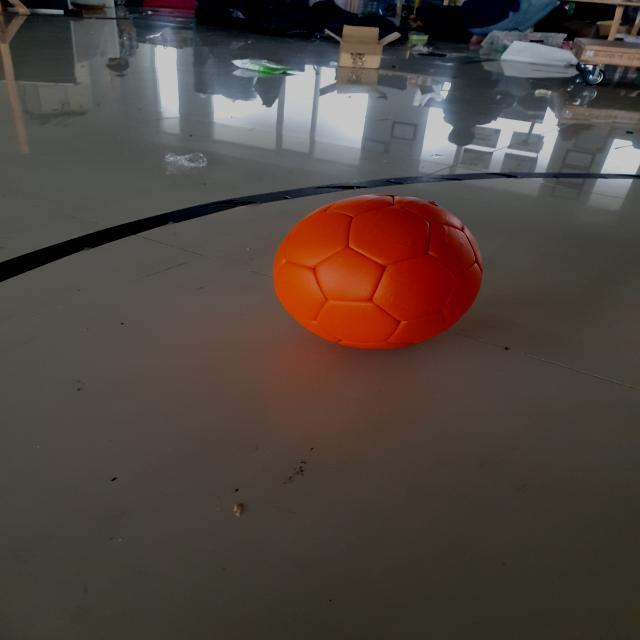bola: (264, 188, 489, 356)
